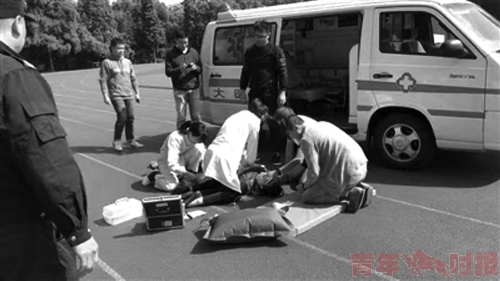fall: (144, 154, 295, 209)
